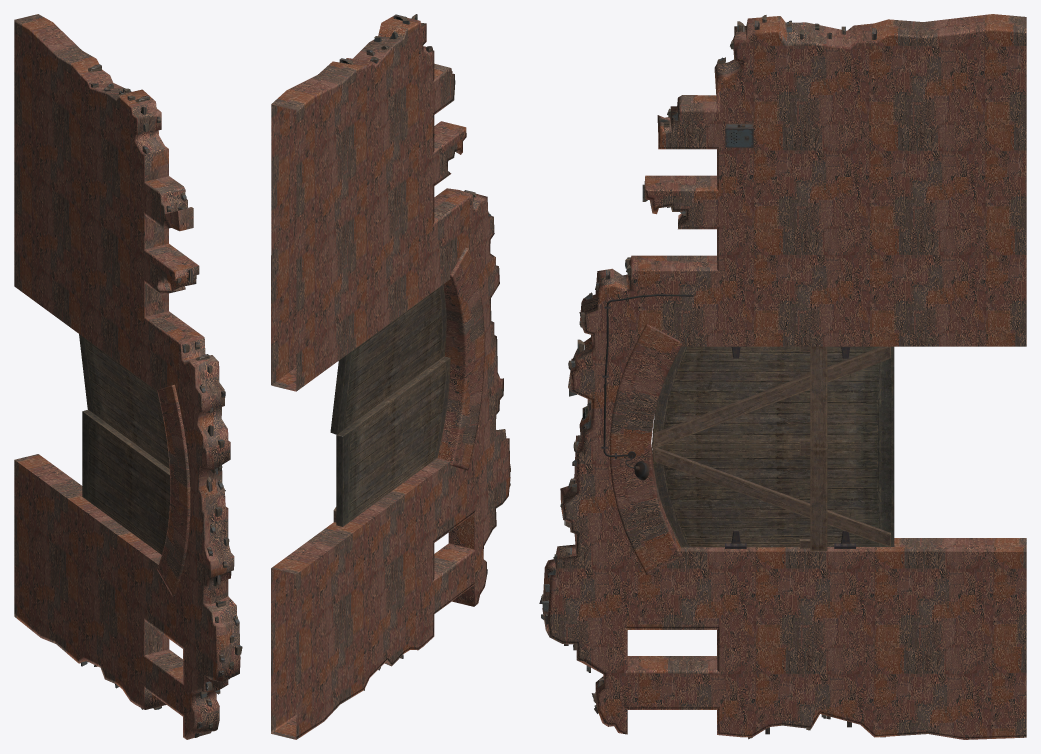
File: hd_bld_UNI_006_KitCrashFactory_Wall_01B.fbx
3 renders of one model, left to right at view 1: azimuth 30°, elevation 25°; view 2: azimuth 150°, elevation 25°; view 3: azimuth 270°, elevation 25°, orthographic. The views are drawn at different scales.
Visible parts, largest first — view 1: set_0_group_1, set_0_group_3, set_0_group_0; view 2: set_0_group_1, set_0_group_3, set_0_group_2, set_0_group_0; view 3: set_0_group_2, set_0_group_3, set_0_group_1, set_0_group_0.
Boxes of the visible parts, x1,y1,x2,y2 form: set_0_group_1: [14, 14, 240, 739]; set_0_group_3: [79, 334, 225, 554]; set_0_group_0: [81, 64, 242, 737]; set_0_group_1: [271, 16, 510, 739]; set_0_group_3: [330, 284, 450, 526]; set_0_group_2: [271, 104, 296, 733]; set_0_group_0: [339, 14, 510, 690]; set_0_group_2: [548, 27, 1026, 739]; set_0_group_3: [601, 123, 894, 550]; set_0_group_1: [542, 14, 1026, 708]; set_0_group_0: [539, 15, 885, 739].
Size of the model in its own units: 98.21 by 1211 by 747.
Materials: 4 (4 with a texture image).
